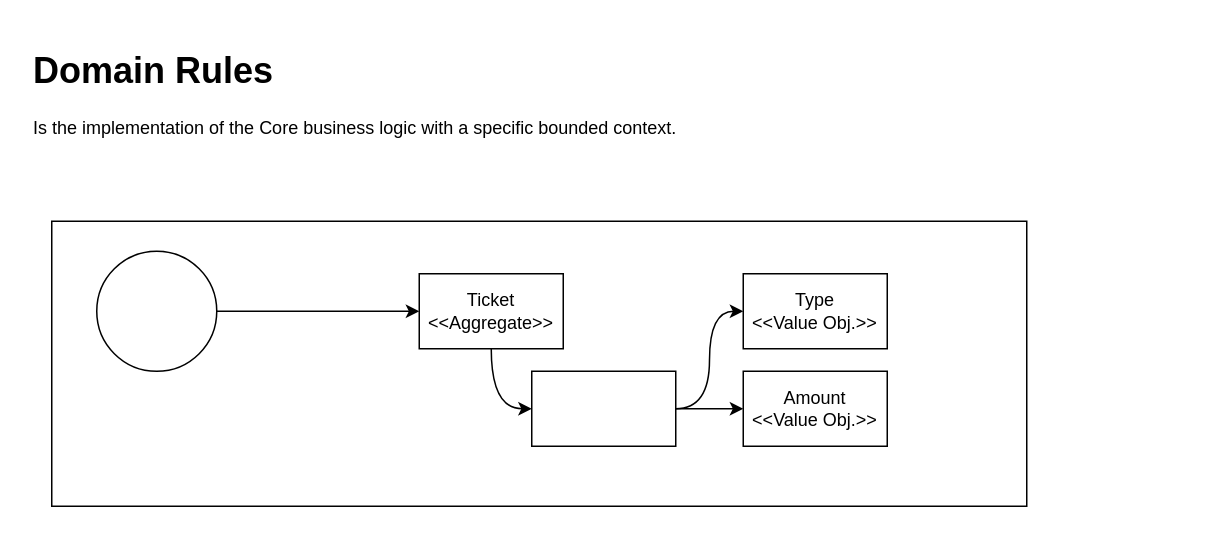
Image size: 1221x533. Some labels were removed from this diagram. Each missing label, with the centre of its shape:
"Serving Bounded Context" belongs at pixel 156 310.
"Subtask <<Entity>>" belongs at pixel 603 408.
